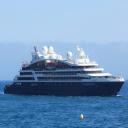cruises: (4, 44, 127, 99)
